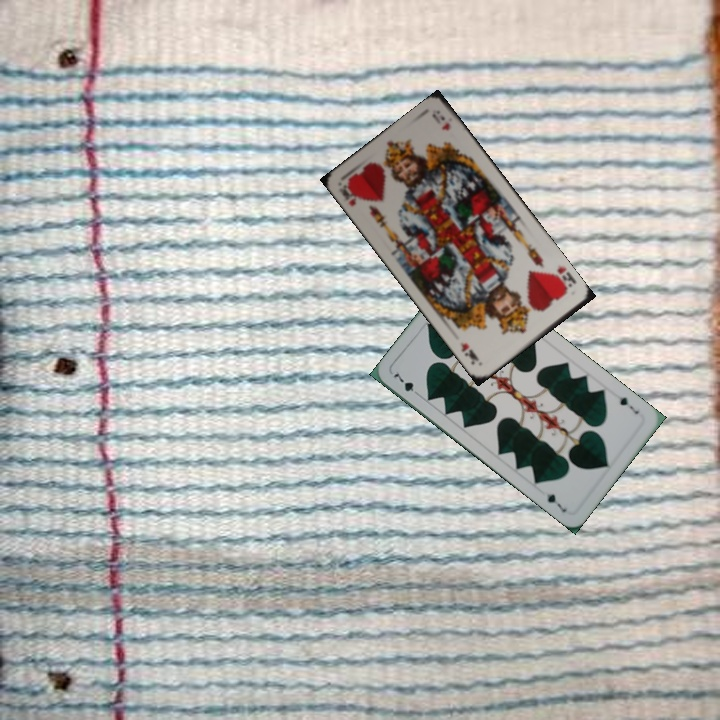G7: (389, 369, 423, 399), (615, 393, 641, 417)
HK: (548, 262, 579, 295), (335, 178, 363, 209)
